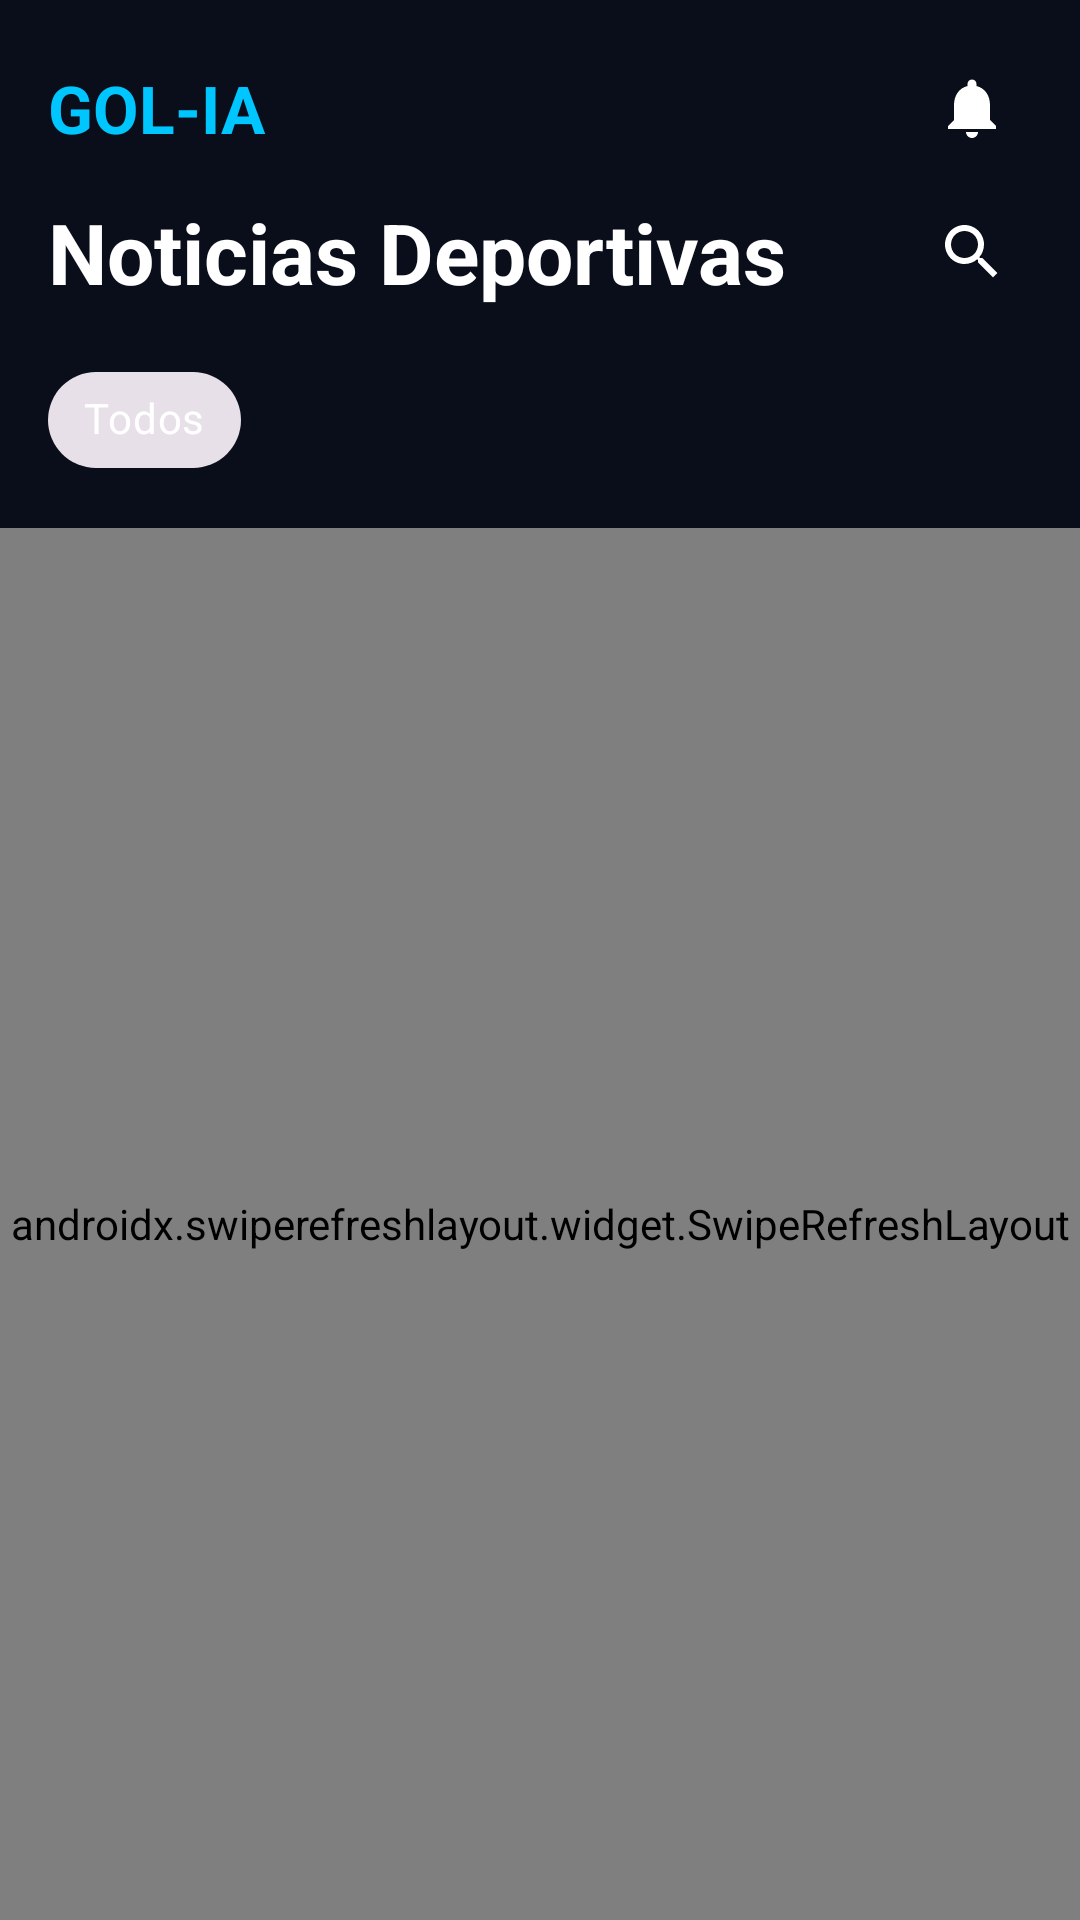

Screen size 1080px x 1920px. Icon name, then its box in pixels as (x1, y1, x2, y2):
Buscar noticias: (945, 225, 997, 277)
Notificaciones: (948, 79, 996, 138)
